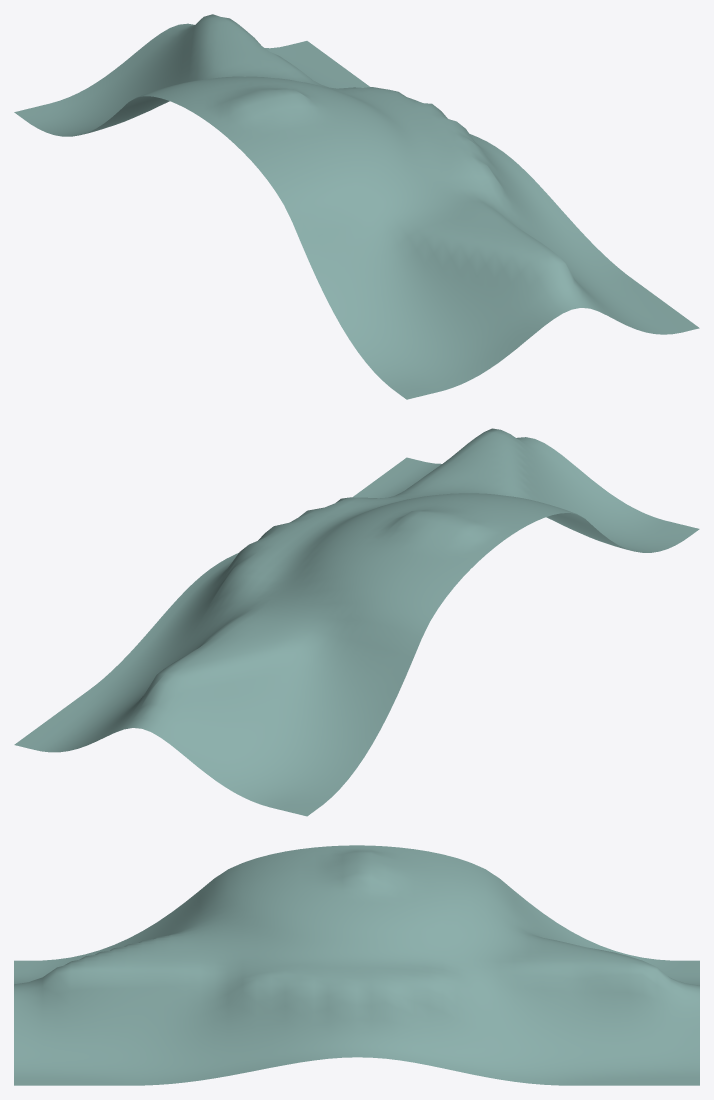
Rendered from blanket.glb.
The picture shows the model from 3 angles, top to bottom: view 1: azimuth 30°, elevation 25°; view 2: azimuth 150°, elevation 25°; view 3: azimuth 270°, elevation 25°; orthographic projection. The views are drawn at different scales.
Visible parts, largest first — view 1: KiabouBlanket; view 2: KiabouBlanket; view 3: KiabouBlanket.
Boxes of the visible parts, bbox=[...] form: KiabouBlanket: bbox=[14, 14, 699, 399]; KiabouBlanket: bbox=[14, 428, 699, 816]; KiabouBlanket: bbox=[14, 845, 699, 1085].
Size of the model in its own units: 0.125 by 0.0578 by 0.29.
1 material, 1 textured.
